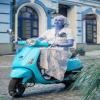motorcycles: (13, 38, 79, 96)
